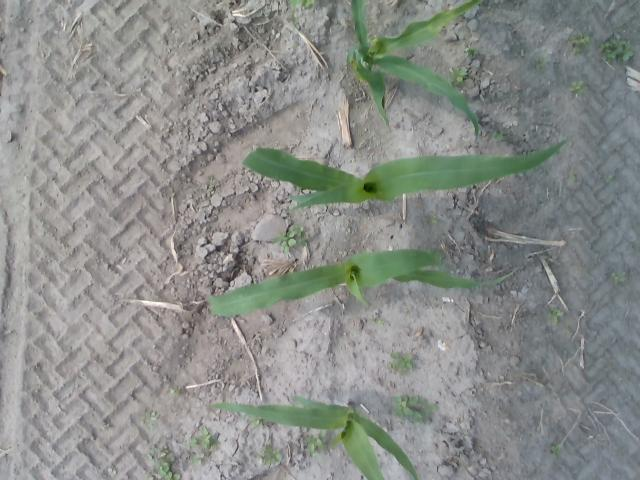Maize: (293, 0, 481, 142), (243, 139, 566, 212), (208, 248, 517, 317), (206, 396, 418, 480)
Weeds: (392, 395, 437, 423), (187, 426, 210, 448), (156, 463, 181, 480), (391, 353, 414, 371), (263, 446, 282, 466), (573, 33, 589, 54), (304, 434, 322, 452), (274, 232, 296, 246), (571, 80, 587, 96), (620, 41, 632, 61), (611, 34, 625, 50), (548, 309, 564, 322), (450, 70, 467, 82), (153, 445, 168, 458), (188, 452, 204, 464), (602, 50, 616, 62), (144, 410, 158, 421), (464, 46, 476, 58), (613, 273, 625, 284), (534, 58, 544, 71), (292, 226, 304, 236), (494, 131, 506, 141), (600, 42, 610, 54), (280, 242, 290, 253), (142, 421, 154, 430), (210, 176, 217, 190), (297, 237, 307, 246), (250, 416, 260, 425), (167, 453, 175, 462), (108, 467, 117, 474), (550, 446, 558, 453), (604, 175, 612, 182), (570, 171, 576, 180), (432, 214, 437, 224), (170, 389, 180, 394), (379, 319, 384, 325), (147, 453, 152, 458)
